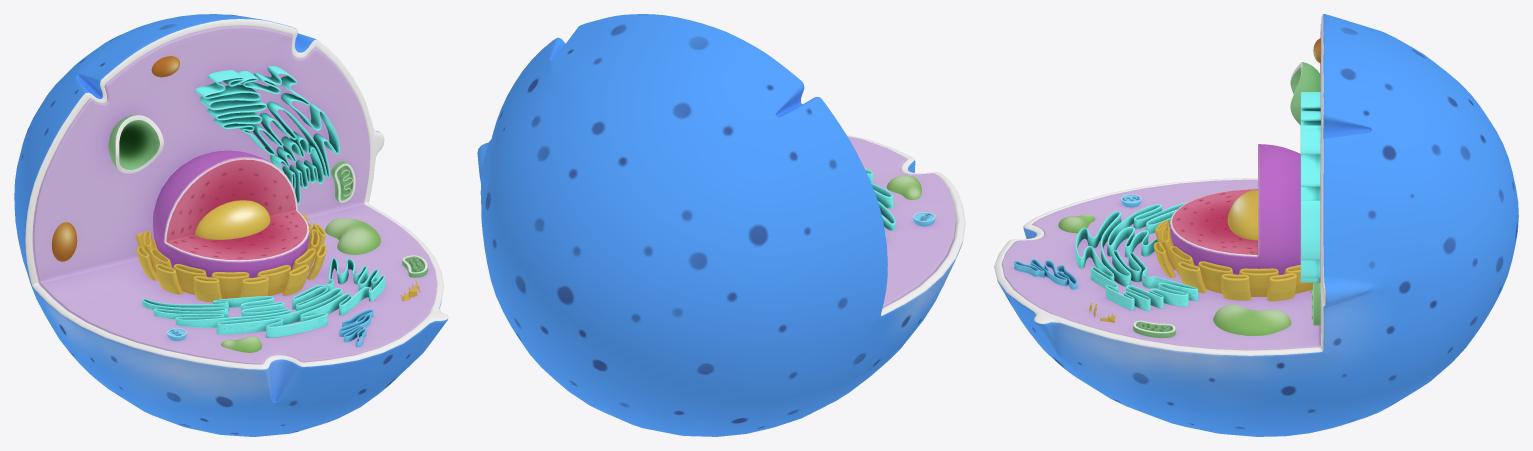
The model's file is Animal_cell.glb.
3 renders of one model, left to right at view 1: azimuth 30°, elevation 25°; view 2: azimuth 150°, elevation 25°; view 3: azimuth 270°, elevation 25°, orthographic. The views are drawn at different scales.
Visible parts, largest first — view 1: node_id33, node_id31; view 2: node_id33, node_id31; view 3: node_id33, node_id31.
Part boxes in pixels (x1,y1,x2,y2): node_id33: (14, 14, 448, 436); node_id31: (32, 26, 436, 364); node_id33: (477, 14, 965, 436); node_id31: (847, 136, 956, 307); node_id33: (994, 14, 1518, 436); node_id31: (1001, 23, 1321, 350).
Size of the model in its own units: 0.512 by 0.4928 by 0.617.
Materials: 2 (2 with a texture image).
